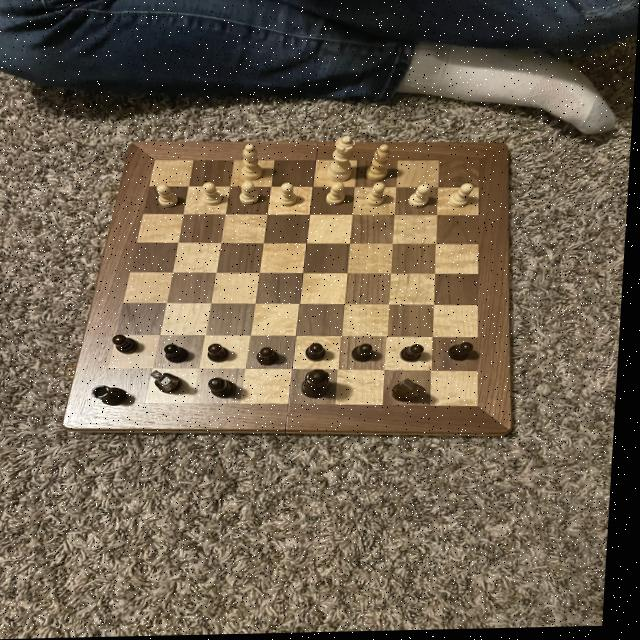bishop: (210, 376, 243, 401)
black-king: (394, 378, 435, 406), (154, 369, 190, 396)
black-knight: (113, 333, 146, 357), (448, 342, 480, 366), (165, 344, 196, 366), (306, 342, 333, 365), (209, 343, 236, 366), (402, 344, 430, 366), (258, 347, 286, 369), (351, 344, 378, 366)
black-pawn: (303, 370, 339, 403)
black-queen: (93, 383, 137, 409)
black-rook: (365, 143, 396, 185), (238, 142, 267, 184)
white-knight: (154, 183, 185, 211), (238, 180, 265, 210), (200, 181, 228, 209), (449, 184, 477, 211), (276, 183, 303, 210), (365, 183, 391, 211), (409, 185, 436, 211), (327, 181, 350, 208)
white-pawn: (326, 135, 361, 187)
